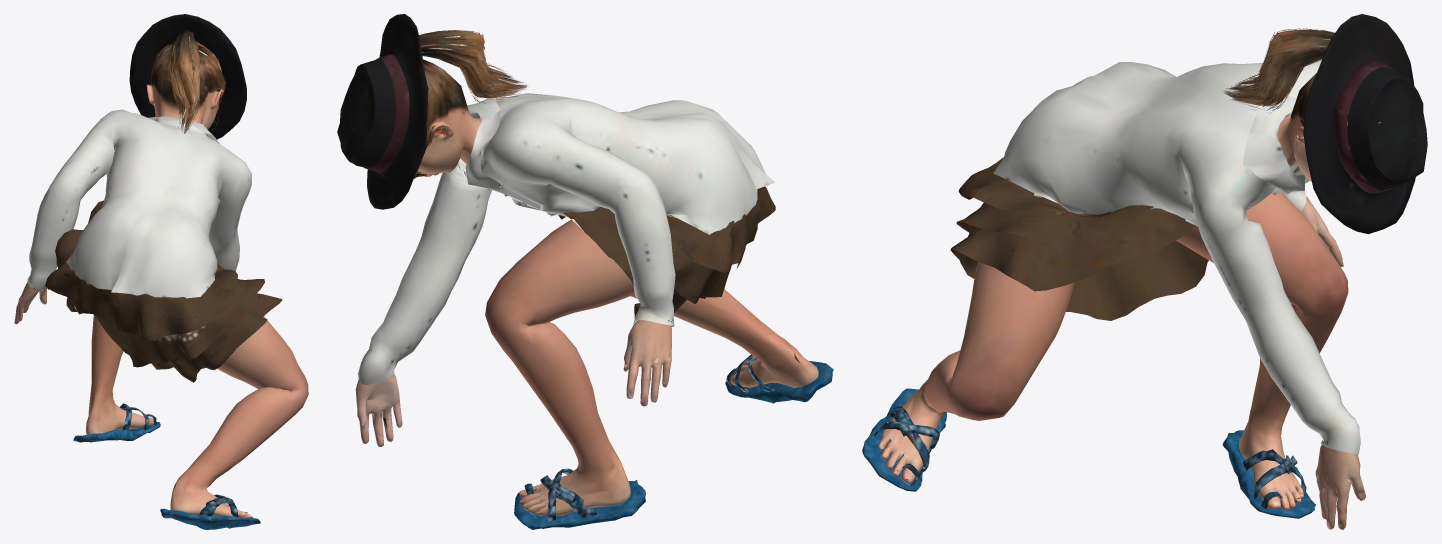
3 views of the same model, side by side, from view 1: azimuth 30°, elevation 25°; view 2: azimuth 150°, elevation 25°; view 3: azimuth 270°, elevation 25° (orthographic). The views are drawn at different scales.
Visible parts, largest first — view 1: p00468; view 2: p00468; view 3: p00468.
Part boxes in pixels (<box>): p00468: <box>14,14,308,529</box>; p00468: <box>337,14,833,529</box>; p00468: <box>862,14,1427,529</box>.
Bounding box in the file's own units: 0.5773 × 0.8908 × 0.8289.
1 material, 1 textured.
